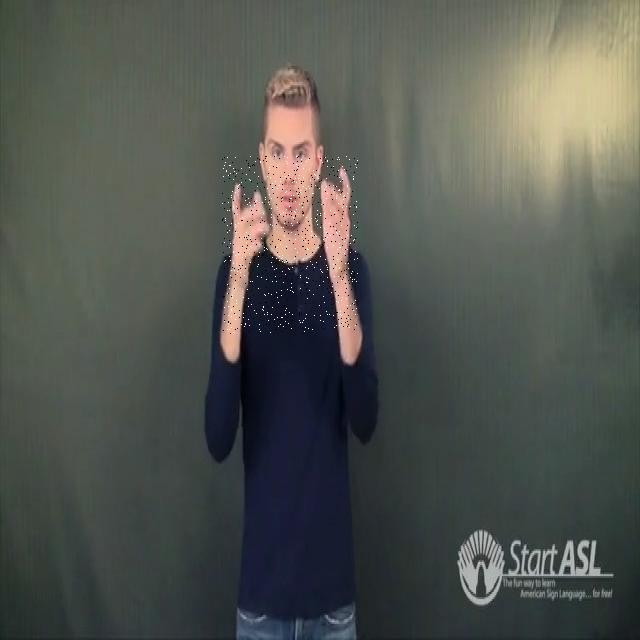manager: (222, 156, 358, 334)
